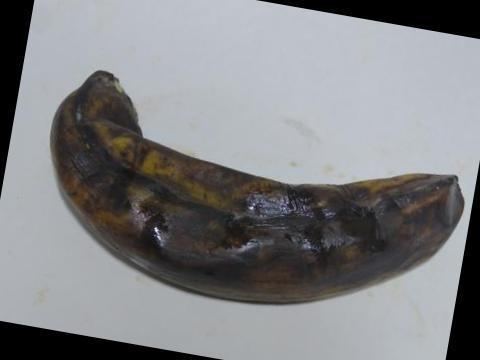rotten: (43, 64, 470, 317)
